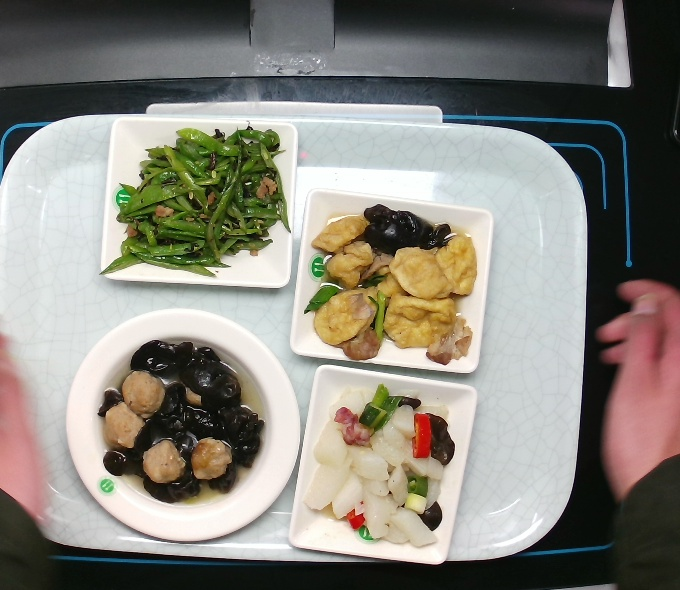wcq-MuErWanZi: (90, 331, 278, 512)
wcq-ShanYao: (299, 376, 459, 554)
wcq-SiJiDouChaoRou: (94, 119, 296, 284)
wcq-YouPaoRouPian: (299, 199, 483, 370)
